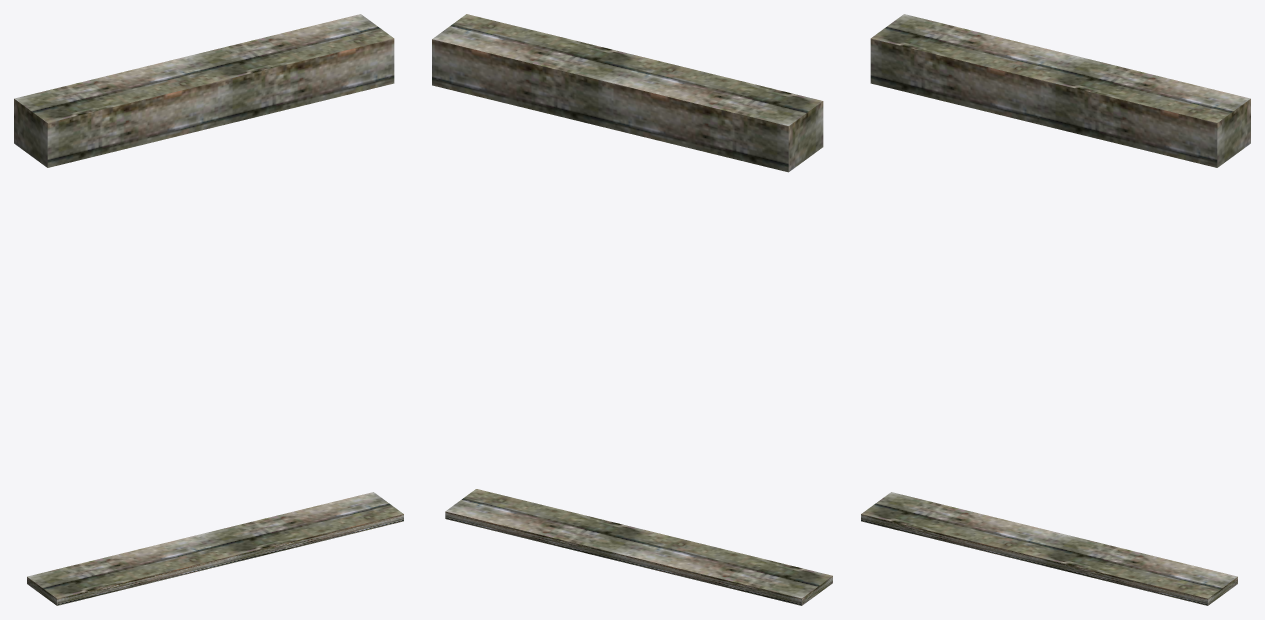
3 renders of one model, left to right at view 1: azimuth 30°, elevation 25°; view 2: azimuth 150°, elevation 25°; view 3: azimuth 330°, elevation 25°, orthographic. The views are drawn at different scales.
Parts seen in each view (by area): view 1: HouseWall03; view 2: HouseWall03; view 3: HouseWall03.
Part boxes in pixels (x1=…): HouseWall03: x1=14, y1=14, x2=403, y2=605; HouseWall03: x1=432, y1=14, x2=832, y2=605; HouseWall03: x1=861, y1=14, x2=1250, y2=605.
Bounding box in the file's own units: 202 × 265 × 43.39.
